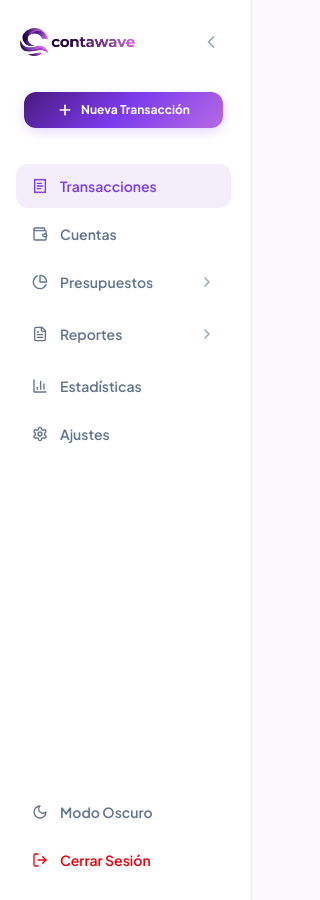
Test: Sidebar Component › US1: Hierarchical Desktop Sidebar Rendering & Toggling › toggles group open and close on click
// Click to expand
Click the button "Presupuestos".
click(124, 282)  # box [16, 260, 231, 304]
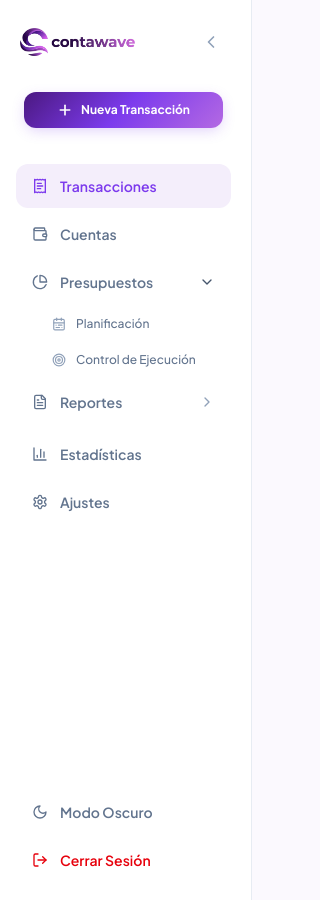
Expected: the button "Presupuestos" is expanded
Expected: the text "Planificación" is shown, [76, 316, 149, 332]
Expected: the text "Control de Ejecución" is shown, [76, 352, 196, 368]
// Click to collapse
Click the button "Presupuestos".
click(124, 282)  # box [16, 260, 231, 304]
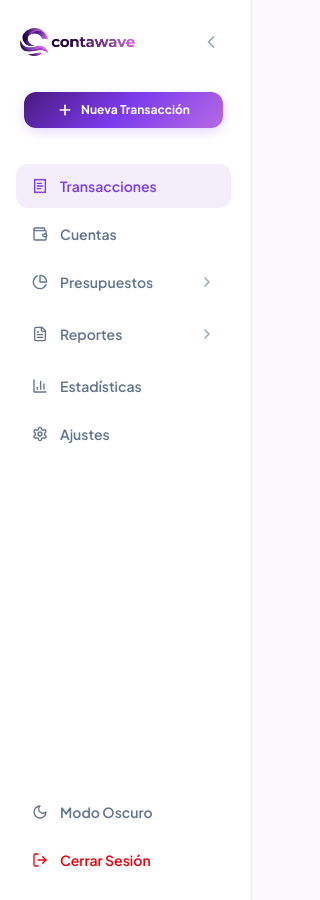
Expected: the button "Presupuestos" is collapsed, [16, 260, 231, 304]
